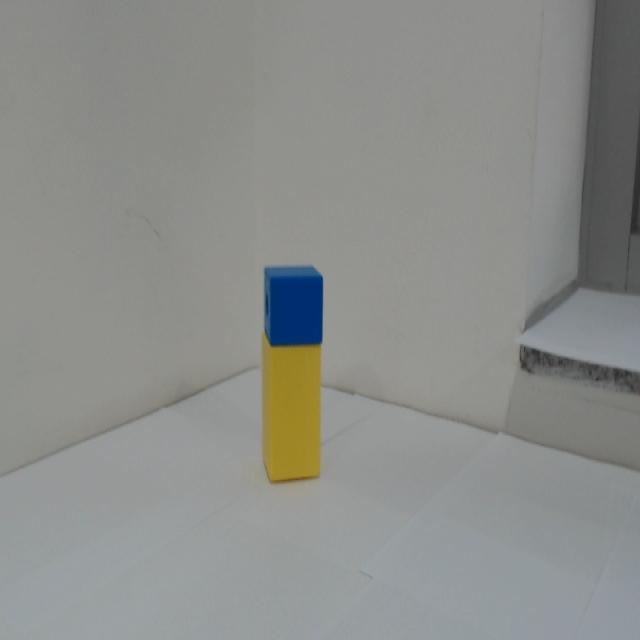cube: (263, 265, 323, 349)
